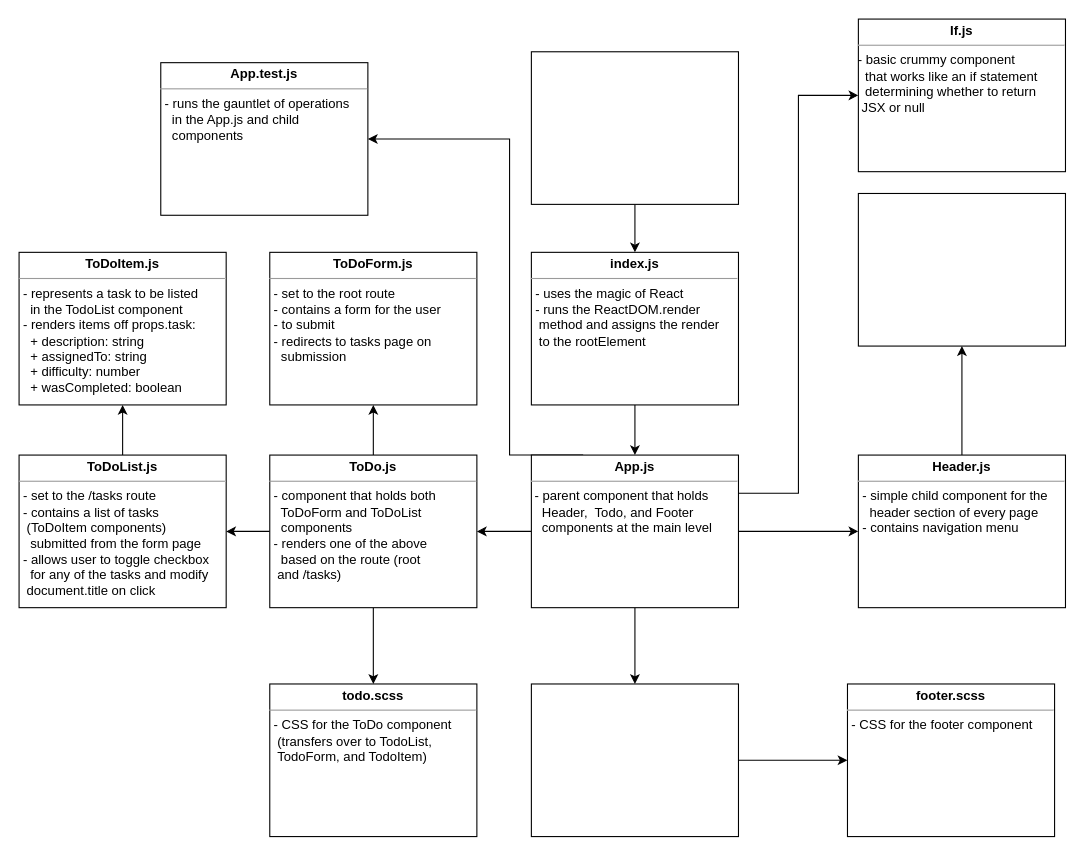
Image size: 1085x856. Some labels were removed from this diagram. Here are the shapes that lost their labels. From the top down, the box of each, then its label:
(530, 51, 738, 204): index.html - template file on which the React content gets rendered when running
(857, 192, 1065, 346): header.scss - CSS for the header component
(530, 683, 738, 837): Footer.js - simple child component for the footer section of every page
